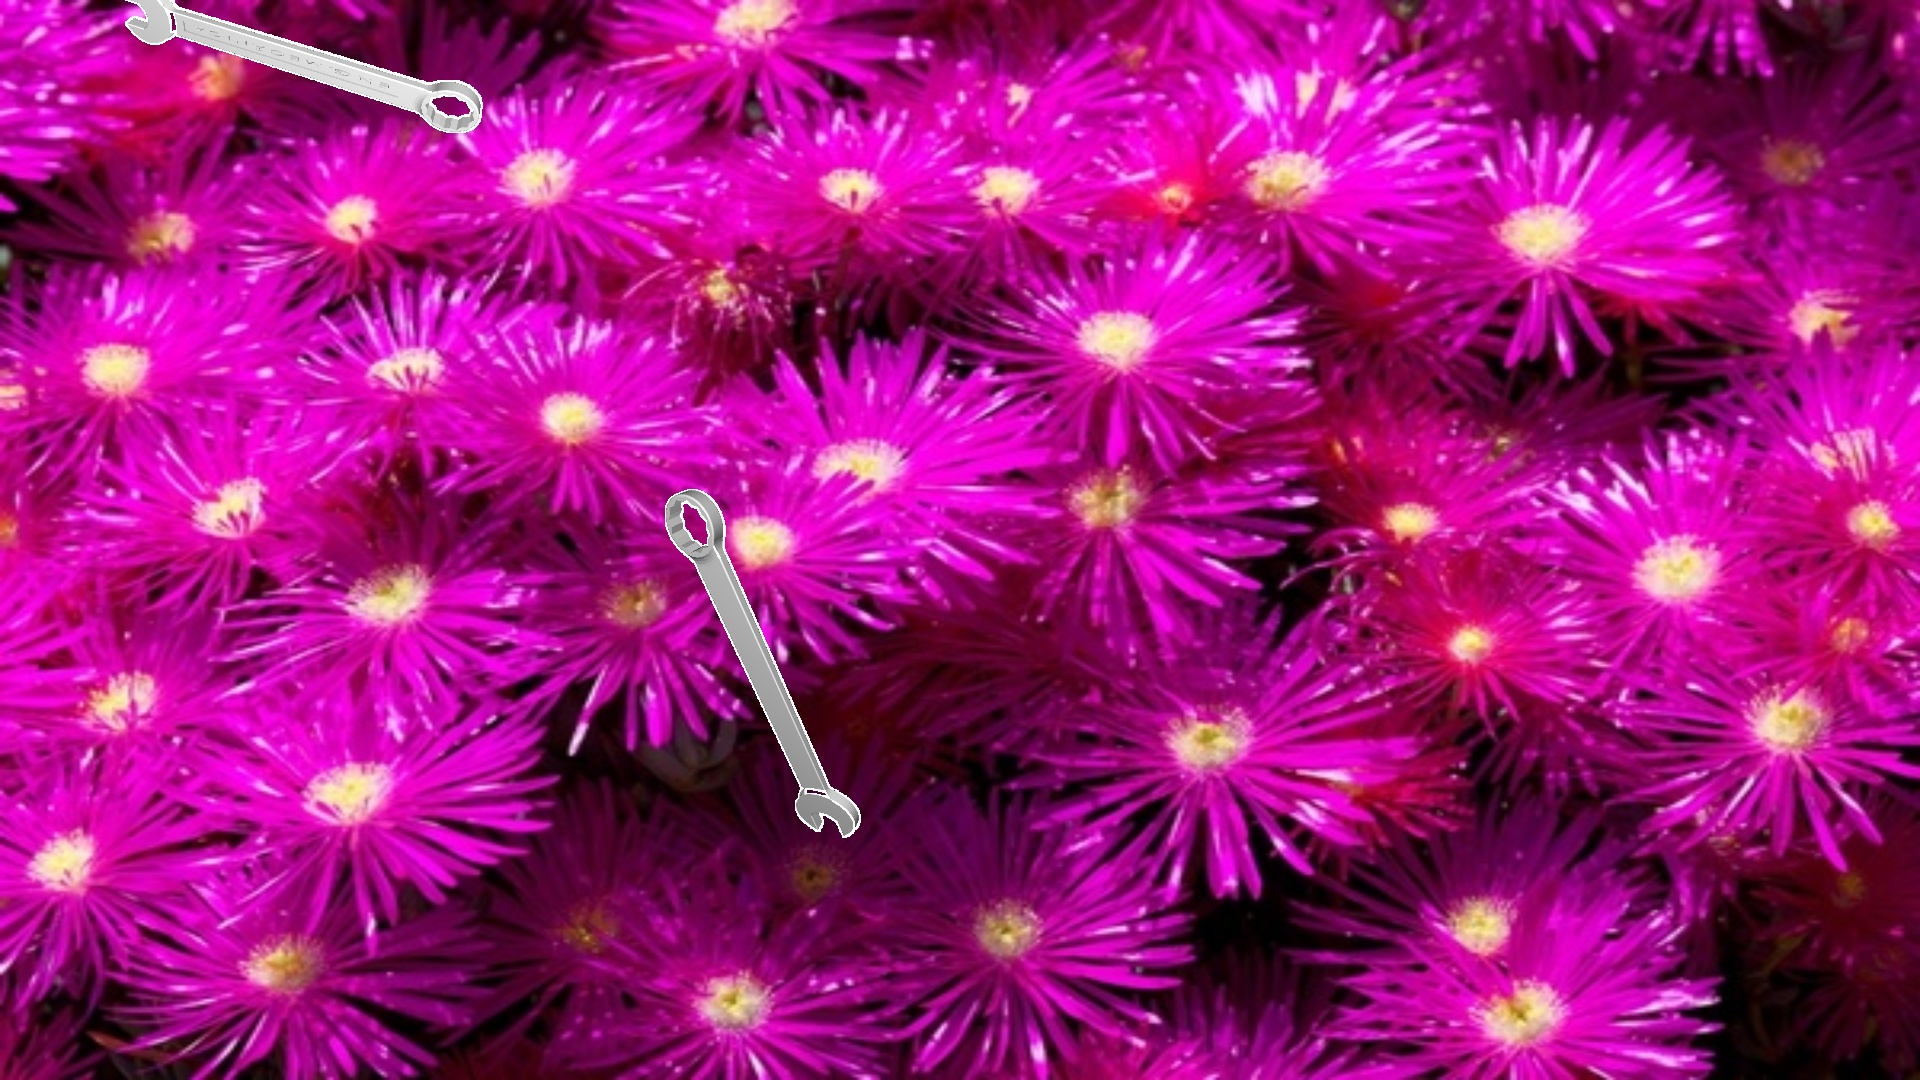Mixed Key: (665, 489, 860, 837), (125, 0, 483, 132)
